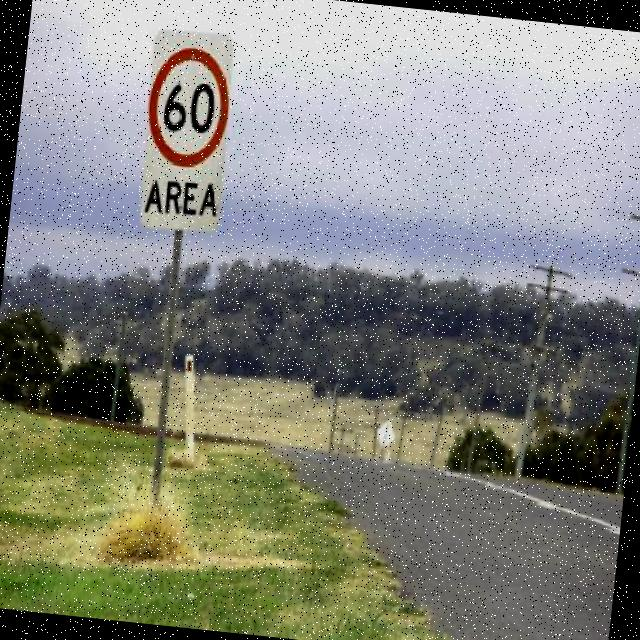Ograniczenie predkosci do 60: (140, 39, 240, 169)
